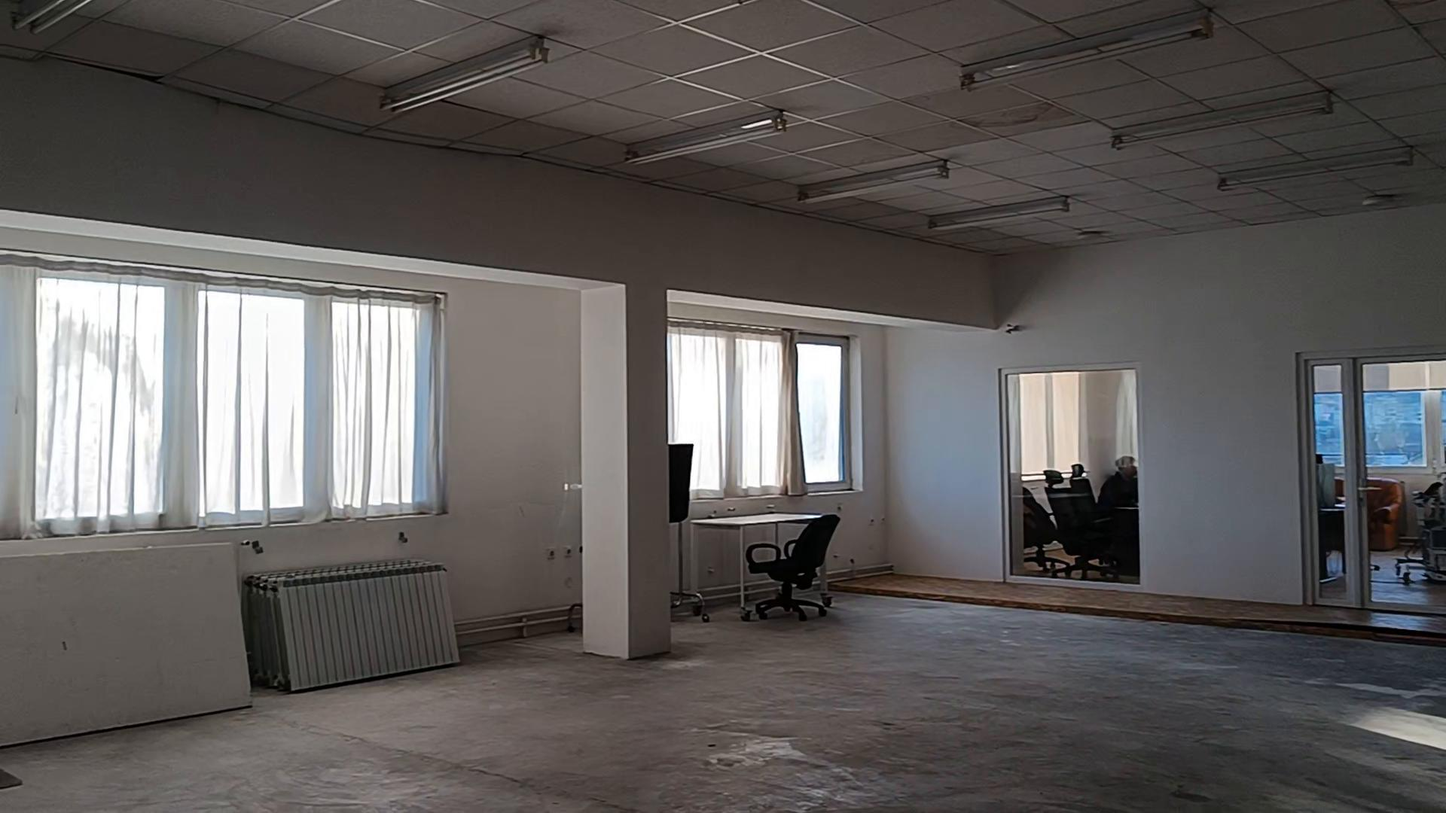ceiling: (0, 0, 1445, 251)
floor: (0, 595, 1445, 812), (844, 576, 1445, 645)
wall: (0, 58, 994, 655), (886, 206, 1443, 606), (1, 235, 580, 619)
